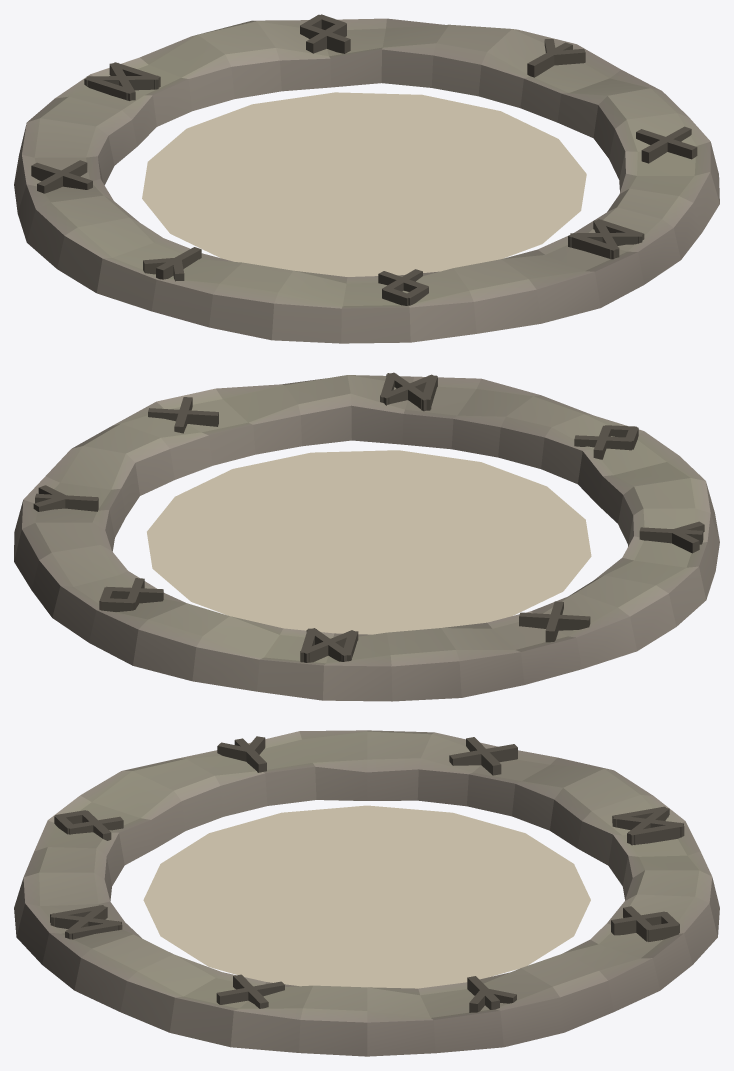
The model's file is goal_circle.glb.
3 renders of one model, top to bottom at view 1: azimuth 30°, elevation 25°; view 2: azimuth 150°, elevation 25°; view 3: azimuth 270°, elevation 25°, orthographic.
Parts seen in each view (by area): view 1: goal_circle; view 2: goal_circle; view 3: goal_circle.
Part boxes in pixels (<box>): goal_circle: <box>14,14,719,343</box>; goal_circle: <box>14,372,719,701</box>; goal_circle: <box>14,730,719,1056</box>.
Size of the model in its own units: 2.46 by 0.1518 by 2.46.
